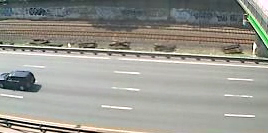car: (1, 68, 40, 93)
